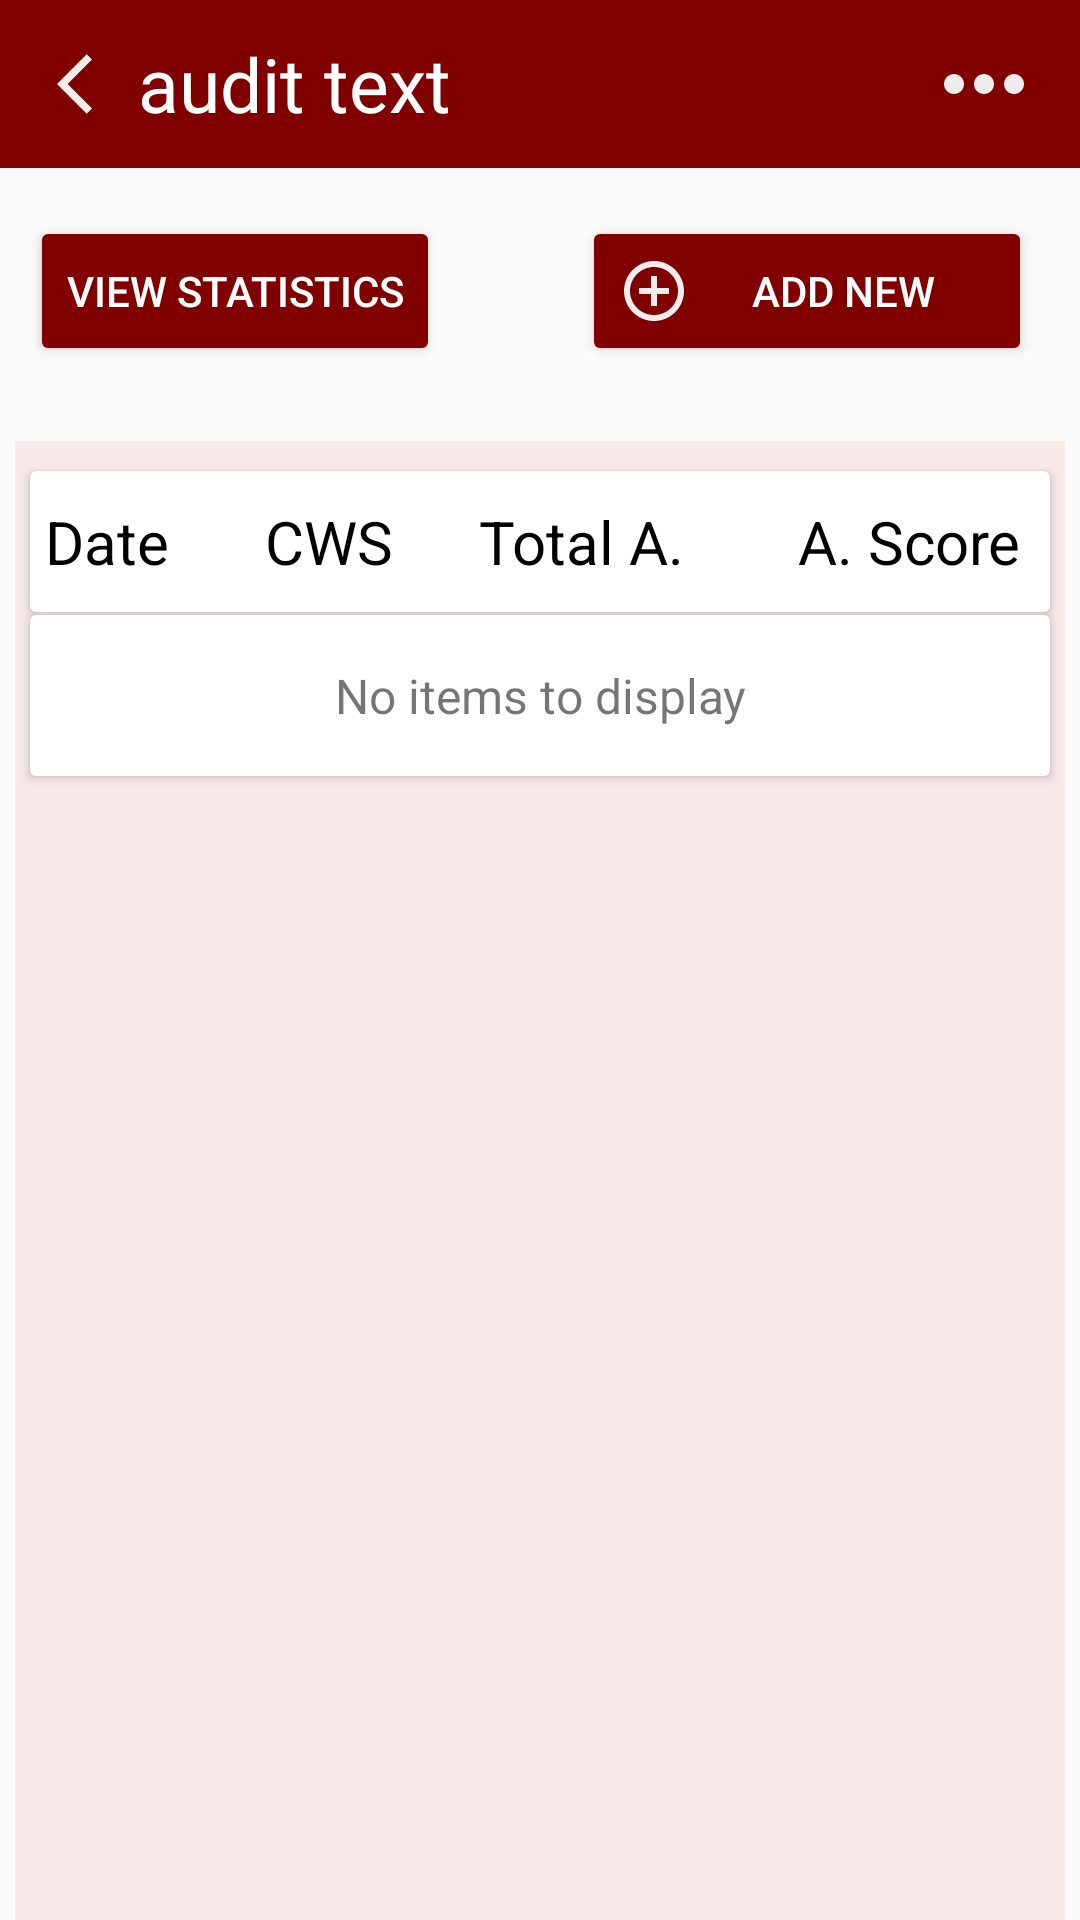

Icons on this 1080 x 1920 Android screen, each with the point to tap as (x=x, y=y):
back icon: (x=74, y=84)
menu icon: (x=984, y=84)
